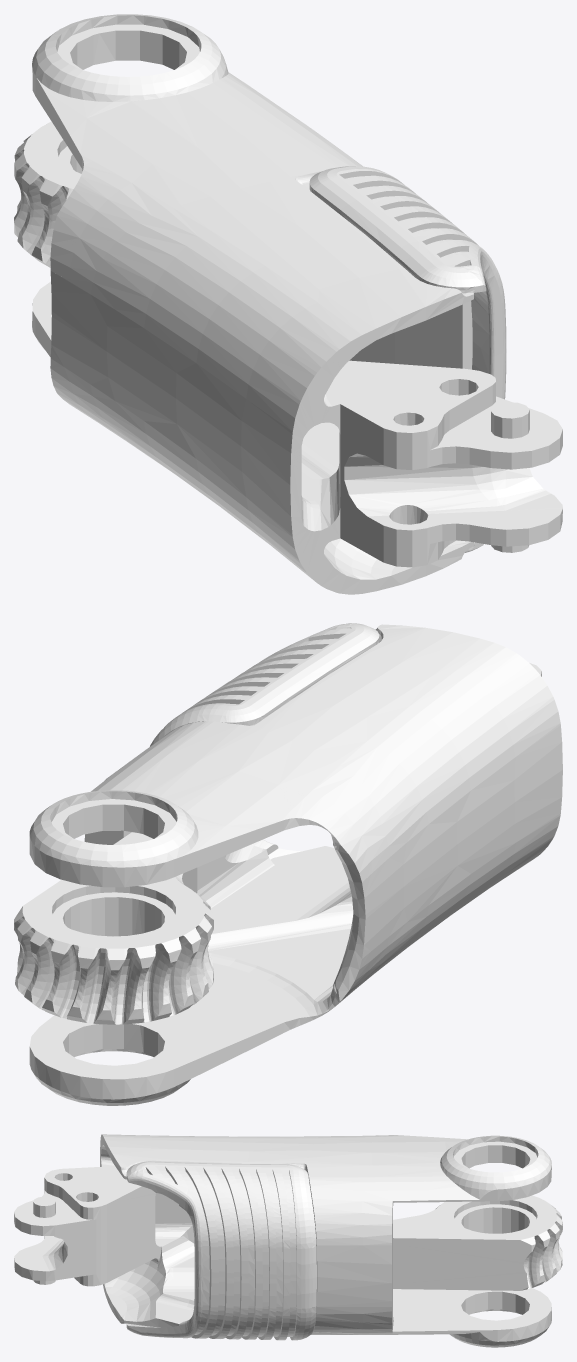
File: rh_ring_proximal_vis.obj
The picture shows the model from 3 angles, top to bottom: view 1: azimuth 30°, elevation 25°; view 2: azimuth 150°, elevation 25°; view 3: azimuth 270°, elevation 25°; orthographic projection. The views are drawn at different scales.
Parts seen in each view (by area): view 1: rh_ring_proximal; view 2: rh_ring_proximal; view 3: rh_ring_proximal.
Part boxes in pixels (x1,y1,x2,y2): rh_ring_proximal: (14,14,562,594); rh_ring_proximal: (14,623,562,1105); rh_ring_proximal: (14,1134,562,1347).
Size of the model in its own units: 0.0186 by 0.0168 by 0.0479.
1 material, 1 textured.
